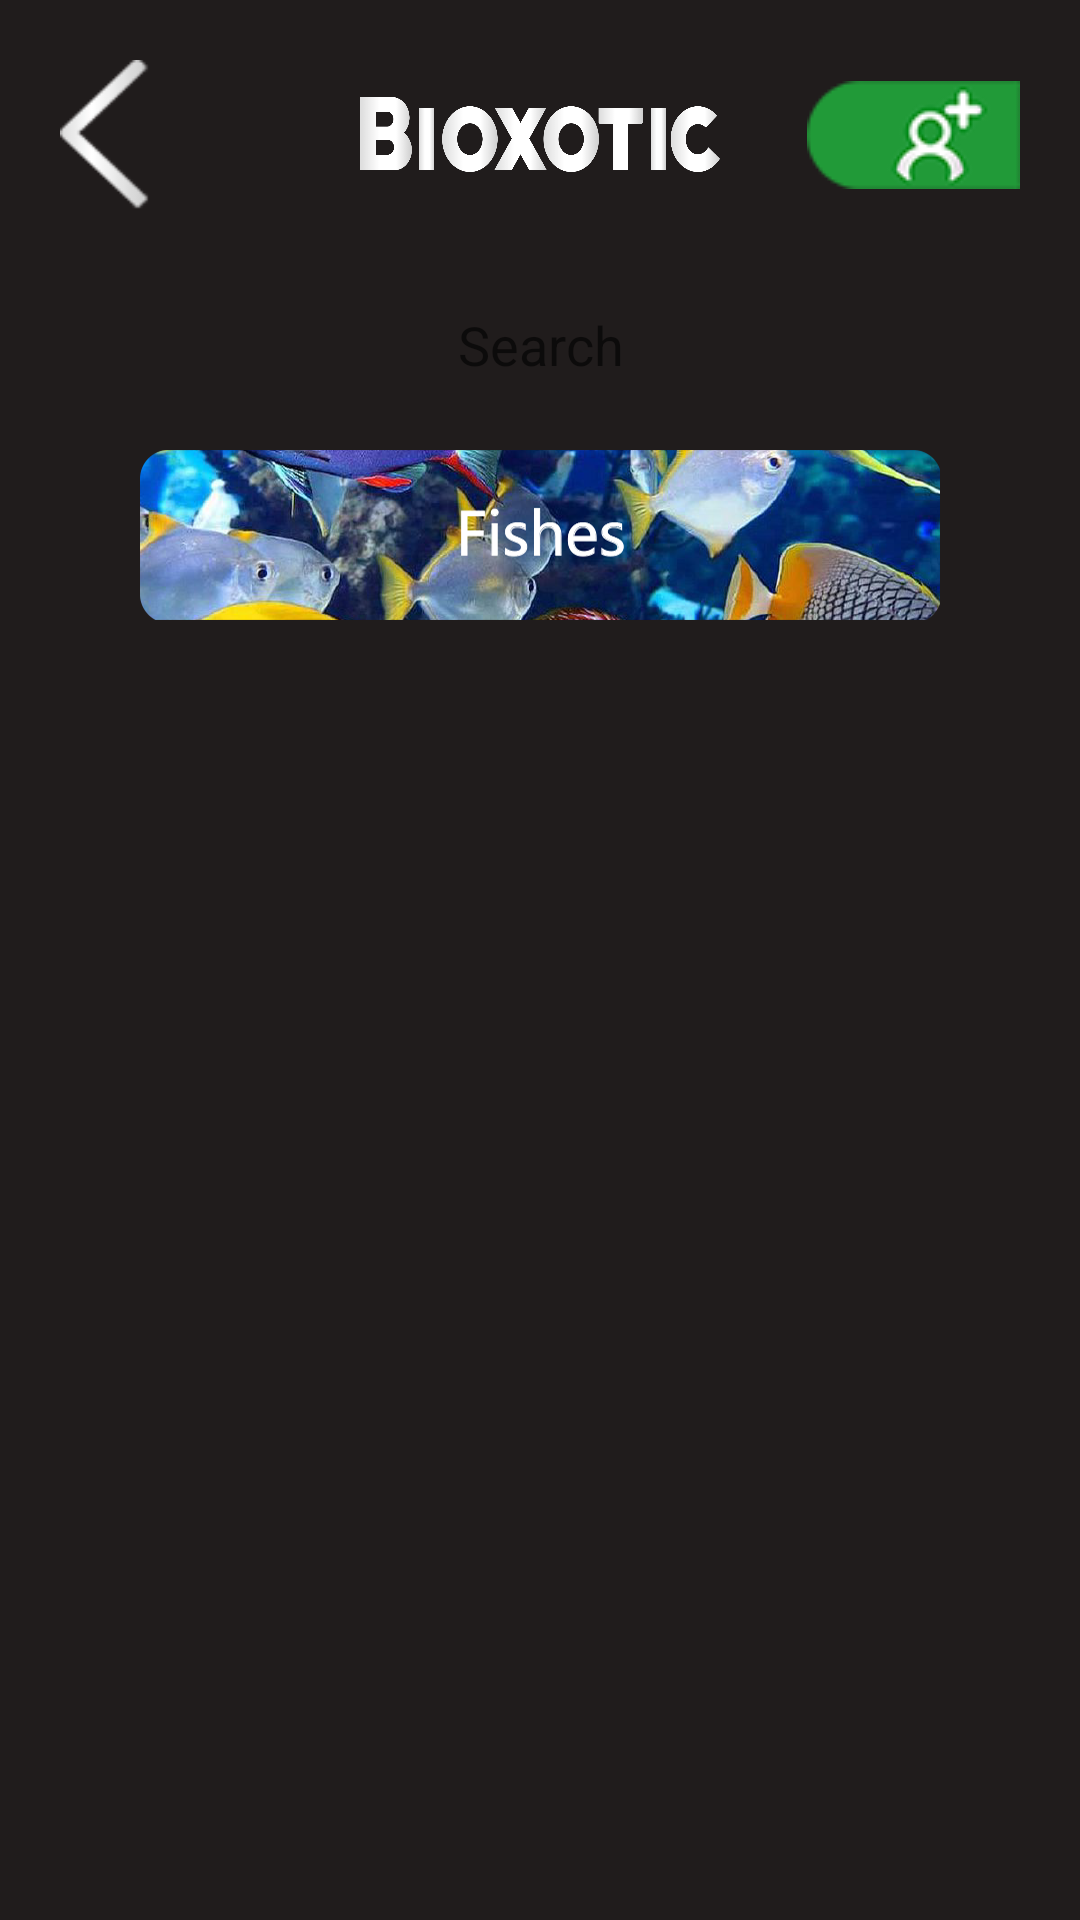

Icons on this 1080px x 1920px Android screen, each with its box as (x1, y1, x2, y2):
back: (60, 60, 148, 208)
profile: (807, 81, 1020, 189)
